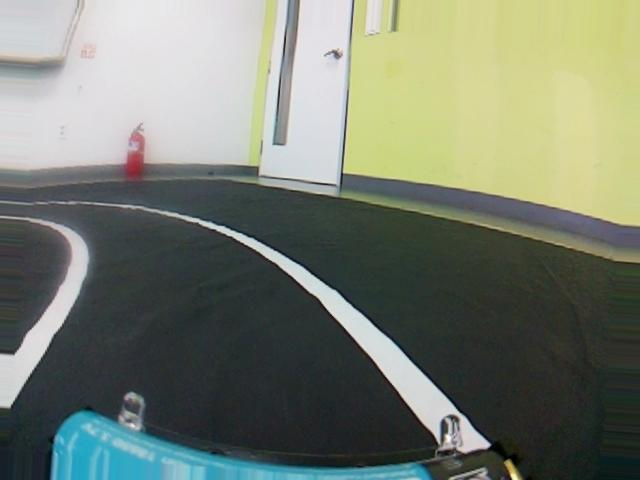left: (0, 187, 549, 479)
